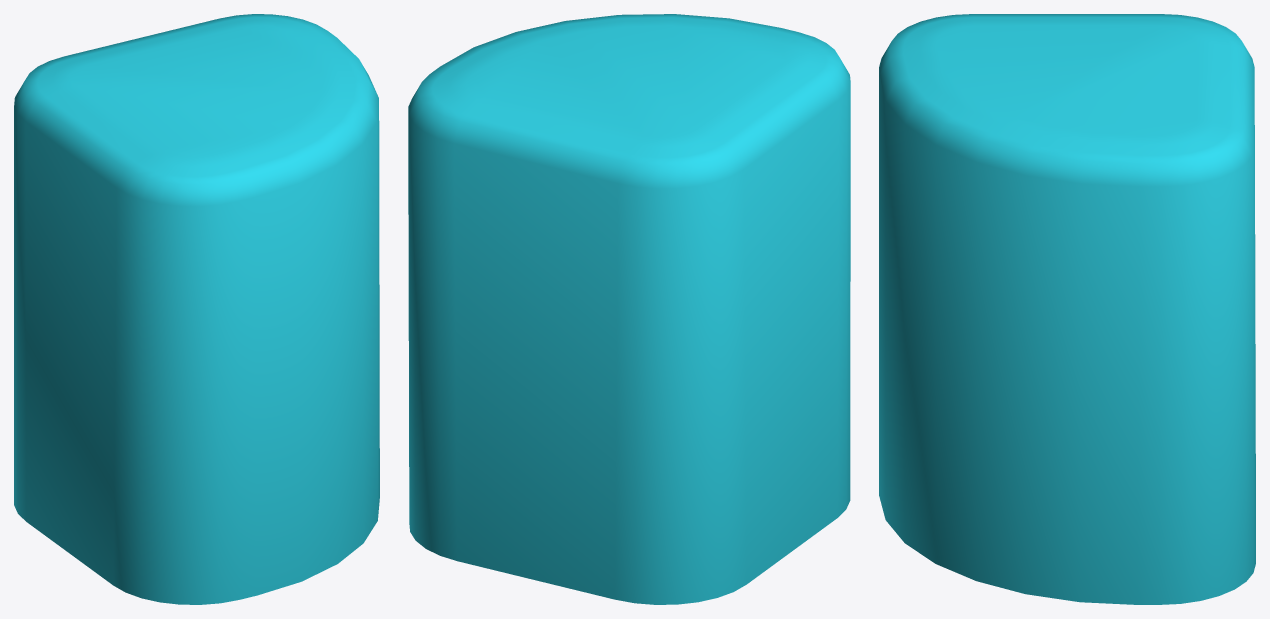
File: corner.glb
The picture shows the model from 3 angles, left to right: view 1: azimuth 30°, elevation 25°; view 2: azimuth 150°, elevation 25°; view 3: azimuth 270°, elevation 25°; orthographic projection. The views are drawn at different scales.
Visible parts, largest first — view 1: corner-0; view 2: corner-0; view 3: corner-0.
Part boxes in pixels (x1,y1,x2,y2): corner-0: (14, 14, 379, 604); corner-0: (408, 14, 850, 604); corner-0: (879, 14, 1255, 604).
Size of the model in its own units: 0.9502 by 1.24 by 0.9502.
